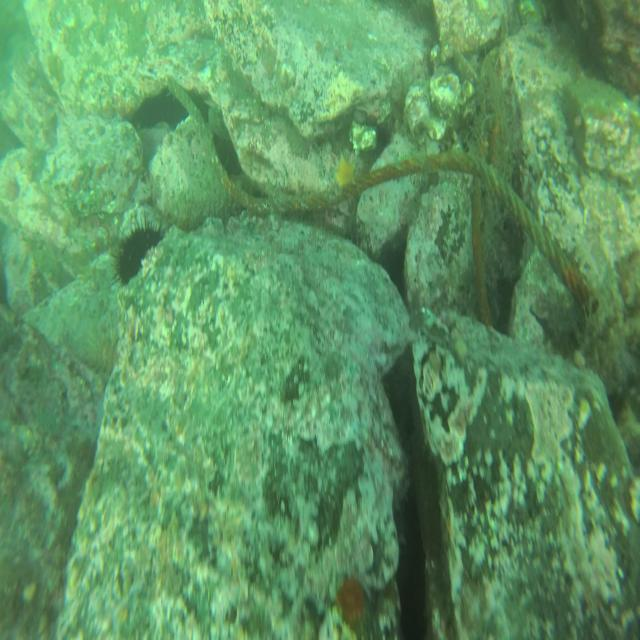echinus: (110, 216, 166, 288)
starfish: (330, 148, 359, 196)
